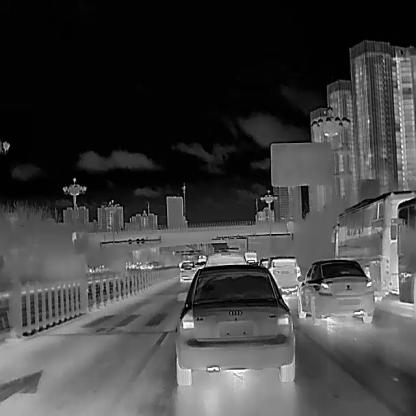bus: (389, 191, 415, 304), (243, 248, 257, 264)
car: (174, 262, 295, 386), (330, 188, 416, 302), (297, 258, 374, 324), (265, 256, 302, 292), (204, 250, 245, 266), (178, 261, 198, 282)
